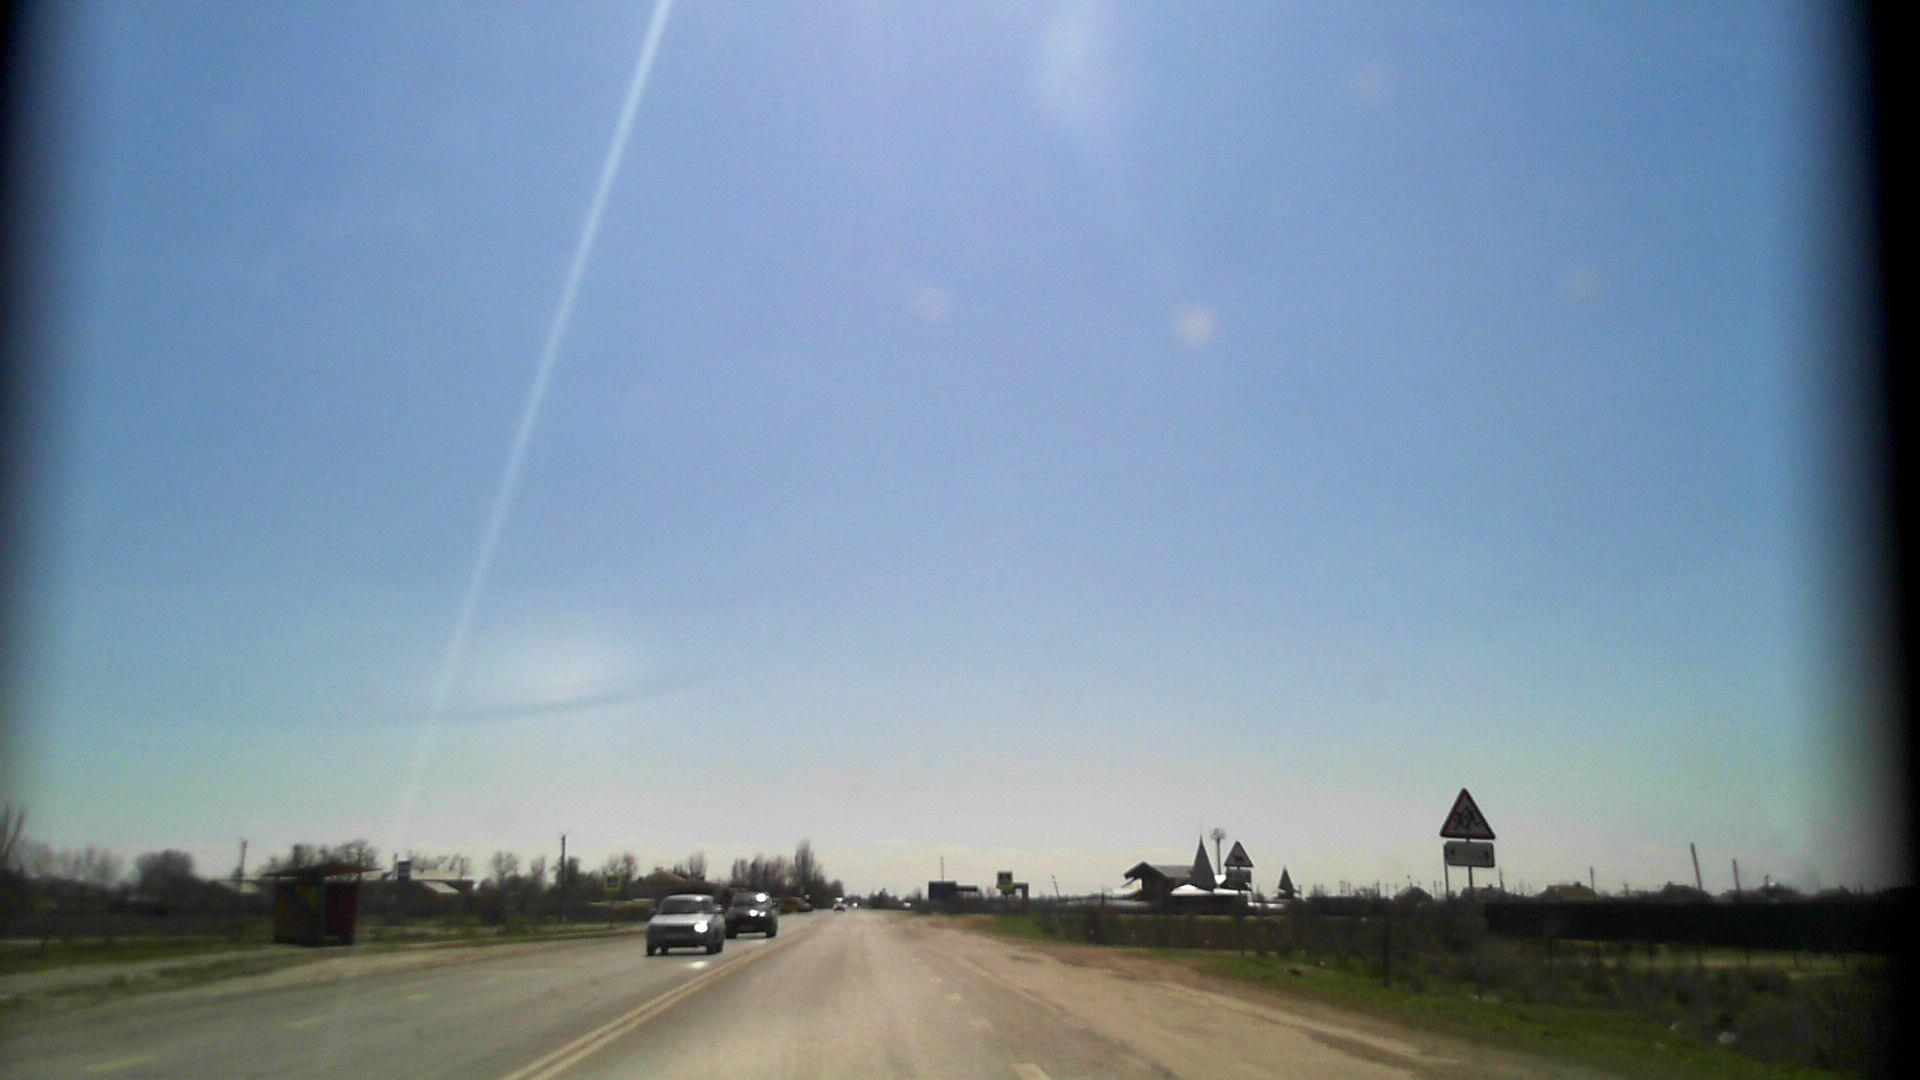1_23: (1437, 787, 1499, 839)
1_26: (1222, 840, 1253, 868)
5_16: (394, 860, 415, 881)
5_19_1: (998, 872, 1013, 886)
5_19_2: (607, 874, 620, 889)
8_2_1: (1445, 841, 1498, 866), (1222, 869, 1251, 881)
